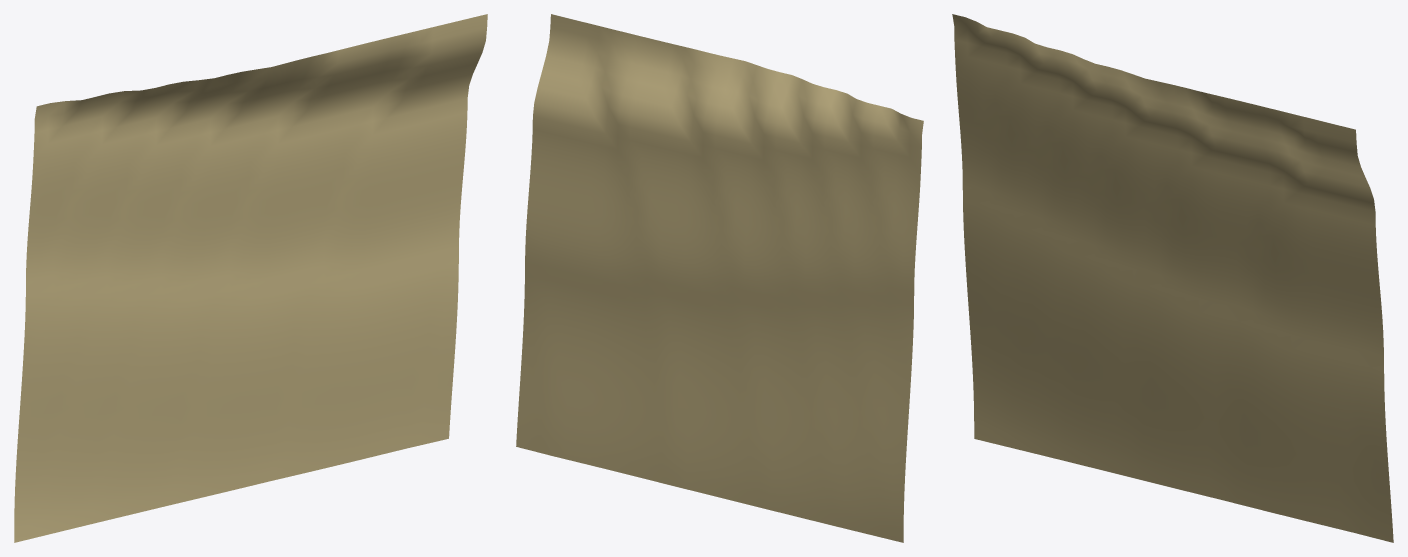
The model's file is island_terrain_19_01.obj.
The picture shows the model from 3 angles, left to right: view 1: azimuth 30°, elevation 25°; view 2: azimuth 150°, elevation 25°; view 3: azimuth 330°, elevation 25°; orthographic projection. The views are drawn at different scales.
Visible parts, largest first — view 1: island_terrain_19_01; view 2: island_terrain_19_01; view 3: island_terrain_19_01.
Part boxes in pixels (x1,y1,x2,y2): island_terrain_19_01: [14, 14, 487, 542]; island_terrain_19_01: [516, 14, 923, 542]; island_terrain_19_01: [952, 14, 1393, 542].
Size of the model in its own units: 256 by 256 by 41.91.
